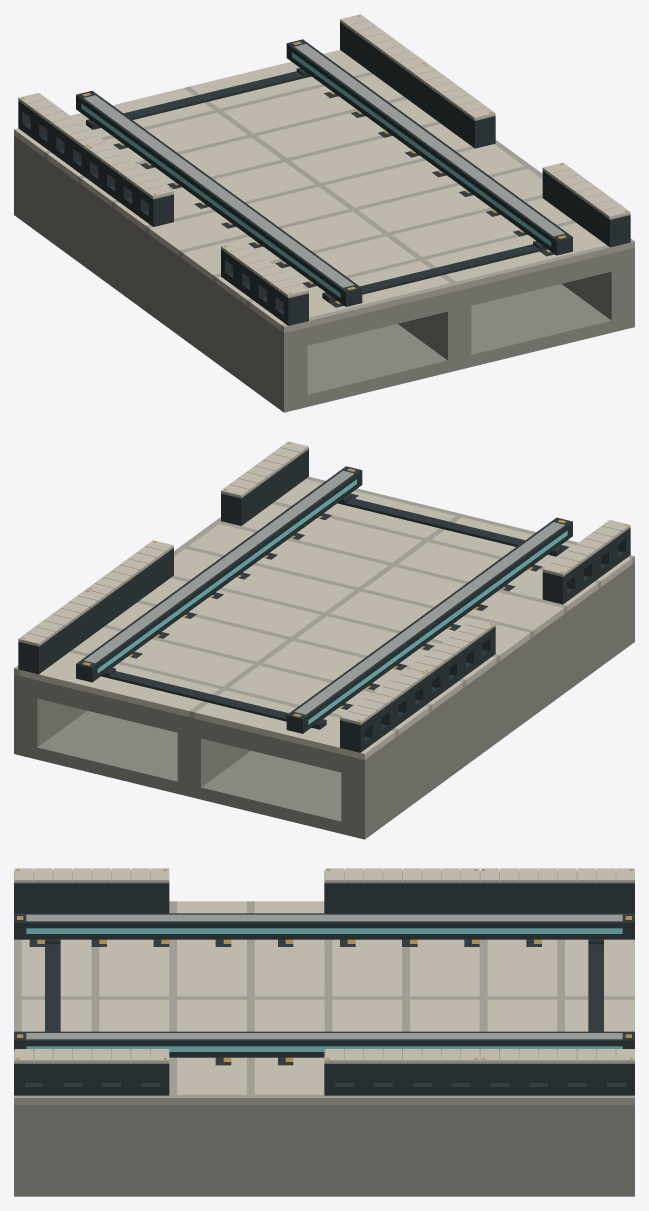
The picture shows the model from 3 angles, top to bottom: view 1: azimuth 30°, elevation 25°; view 2: azimuth 150°, elevation 25°; view 3: azimuth 270°, elevation 25°; orthographic projection. The views are drawn at different scales.
Parts seen in each view (by area): view 1: 既有轨道高架路床, 既有轨道侧缘保护条 (×3), 既有双青色轨道导轨; view 2: 既有轨道高架路床, 既有轨道侧缘保护条 (×3), 既有双青色轨道导轨; view 3: 既有轨道高架路床, 既有轨道侧缘保护条 (×3), 既有双青色轨道导轨.
Part boxes in pixels (x1,y1,x2,y2): 既有轨道高架路床: (14, 50, 634, 412); 既有轨道侧缘保护条 (×3): (18, 14, 630, 325); 既有双青色轨道导轨: (76, 39, 572, 306); 既有轨道高架路床: (14, 476, 634, 839); 既有轨道侧缘保护条 (×3): (18, 441, 630, 752); 既有双青色轨道导轨: (76, 466, 572, 733); 既有轨道高架路床: (14, 901, 634, 1196); 既有轨道侧缘保护条 (×3): (14, 868, 634, 1095); 既有双青色轨道导轨: (14, 913, 634, 1057).
Size of the model in its own units: 6 by 1.9 by 8.
Materials: 7 (7 with a texture image).
